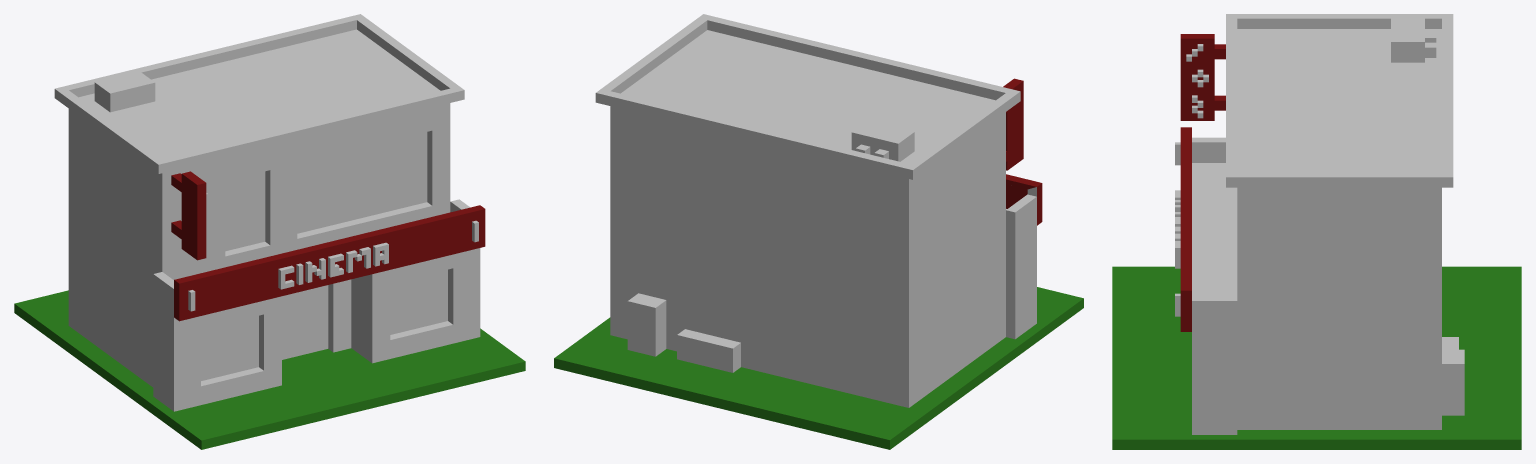
The picture shows the model from 3 angles, left to right: view 1: azimuth 30°, elevation 25°; view 2: azimuth 150°, elevation 25°; view 3: azimuth 270°, elevation 25°; orthographic projection. The views are drawn at different scales.
Visible parts, largest first — view 1: cinema_11; view 2: cinema_11; view 3: cinema_11.
Part boxes in pixels (x1,y1,x2,y2): cinema_11: [14, 14, 525, 449]; cinema_11: [554, 14, 1083, 449]; cinema_11: [1112, 14, 1521, 449].
Bounding box in the file's own units: 9 × 6.75 × 9.
